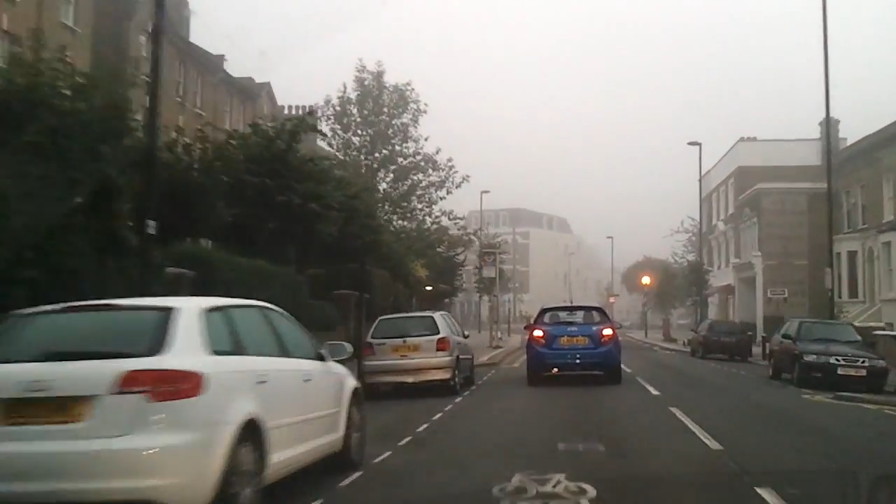car: (1, 294, 369, 504), (357, 311, 477, 395), (766, 316, 893, 395), (522, 304, 626, 389), (687, 318, 755, 363)
